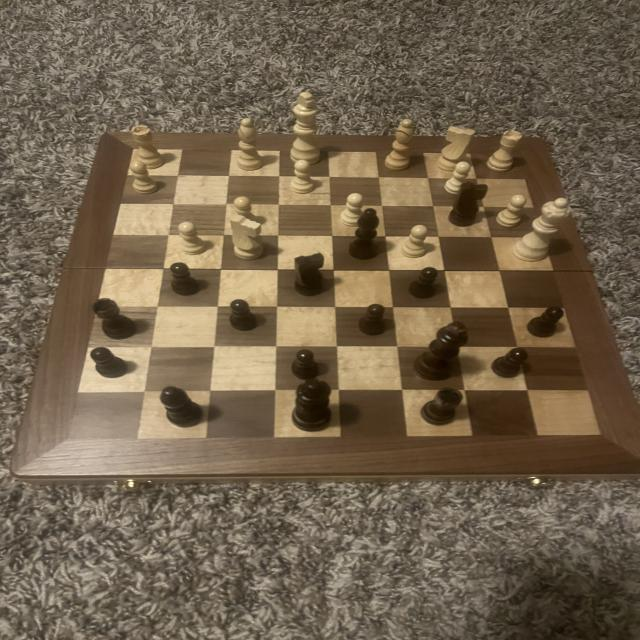bishop: (159, 384, 206, 431), (346, 207, 384, 263)
black-bishop: (410, 321, 471, 382)
black-king: (448, 180, 490, 230), (293, 251, 331, 297)
black-knight: (488, 344, 534, 382), (521, 303, 568, 339), (355, 303, 395, 340), (89, 345, 130, 381), (225, 298, 264, 335), (168, 261, 204, 299), (406, 266, 443, 302), (288, 348, 322, 381)
black-pawn: (290, 378, 338, 436)
black-queen: (90, 297, 139, 342), (417, 386, 468, 428)
black-rook: (381, 119, 421, 171), (233, 116, 267, 172)
white-bishop: (285, 91, 323, 166)
white-king: (225, 212, 269, 261), (436, 126, 477, 172)
white-knight: (125, 158, 164, 196), (397, 225, 435, 261), (338, 191, 372, 228), (495, 194, 530, 228), (177, 220, 208, 257), (443, 160, 474, 197), (288, 158, 317, 195), (231, 196, 262, 228)
white-pawn: (509, 196, 577, 264)
white-queen: (128, 124, 166, 172), (486, 129, 524, 174)
